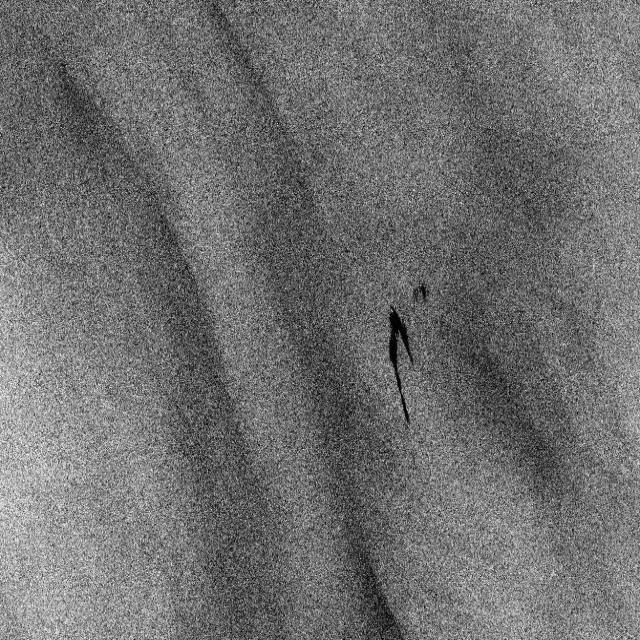oil-spill: (383, 302, 415, 429), (409, 276, 429, 315)
